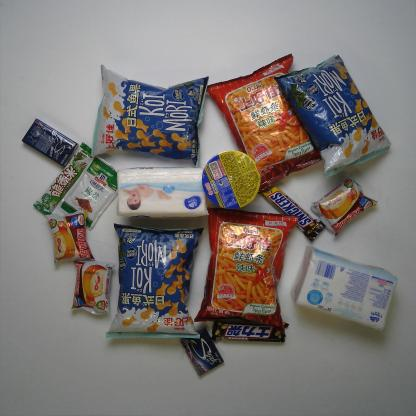Chocolate: (32, 140, 92, 216), (262, 184, 326, 242), (210, 320, 289, 344)
Dessert: (309, 176, 379, 237), (45, 210, 96, 268), (70, 260, 117, 315)
Gum: (21, 117, 80, 168), (180, 325, 225, 378)
Instant Noodles: (202, 150, 262, 210)
Puffed Food: (206, 52, 324, 193), (274, 54, 393, 180), (193, 207, 299, 335), (90, 63, 210, 167), (105, 223, 205, 339)
Seasoner: (57, 154, 117, 232)
Tissue: (290, 244, 399, 332), (116, 166, 210, 220)
